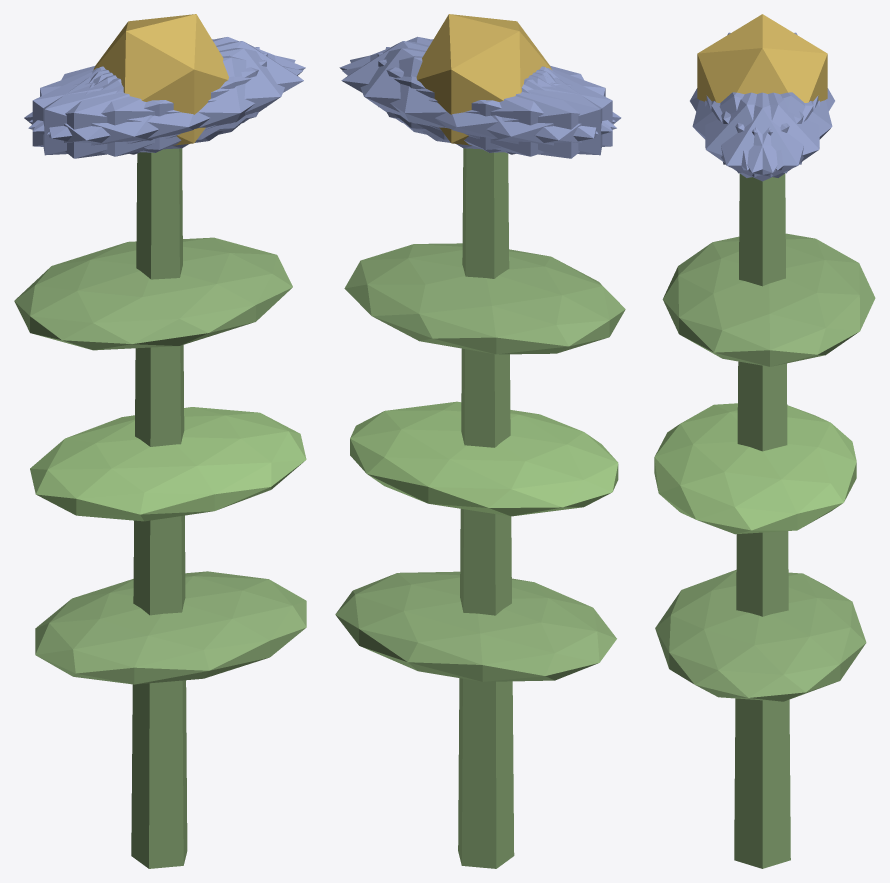
The model's file is cascabela-thevetia.glb.
The picture shows the model from 3 angles, left to right: view 1: azimuth 30°, elevation 25°; view 2: azimuth 150°, elevation 25°; view 3: azimuth 270°, elevation 25°; orthographic projection.
Parts seen in each view (by area): view 1: stem, leaf1, leaf2, leaf0, center, petal1, petal6, petal2, petal5, petal7, petal0, petal4 (+2 smaller); view 2: stem, leaf2, leaf0, leaf1, center, petal8, petal3, petal7, petal4, petal2, petal0, petal5 (+2 smaller); view 3: stem, leaf2, leaf0, leaf1, center, petal0, petal5, petal4, petal1, petal8.
Part boxes in pixels (x1,y1,x2,y2): stem: [131, 148, 187, 868]; leaf1: [30, 407, 306, 521]; leaf2: [14, 237, 292, 350]; leaf0: [35, 571, 306, 684]; center: [93, 14, 228, 145]; petal1: [28, 55, 302, 156]; petal6: [24, 68, 222, 158]; petal2: [43, 47, 259, 155]; petal5: [47, 48, 295, 149]; petal7: [32, 52, 267, 152]; petal0: [93, 41, 303, 139]; petal4: [29, 37, 305, 131]; stem: [458, 148, 514, 868]; leaf2: [344, 243, 625, 354]; leaf0: [335, 571, 616, 681]; leaf1: [350, 401, 618, 516]; center: [416, 14, 551, 145]; petal8: [342, 56, 616, 156]; petal3: [422, 68, 621, 158]; petal7: [385, 47, 602, 155]; petal4: [350, 48, 598, 149]; petal2: [377, 52, 612, 152]; petal0: [341, 41, 552, 140]; petal5: [339, 36, 615, 131]; stem: [734, 173, 790, 868]; leaf2: [662, 233, 875, 366]; leaf0: [655, 569, 866, 701]; leaf1: [654, 403, 856, 534]; center: [697, 14, 827, 102]; petal0: [706, 92, 818, 181]; petal5: [705, 92, 813, 177]; petal4: [711, 92, 819, 177]; petal1: [692, 92, 803, 170]; petal8: [721, 92, 832, 170].
Size of the model in its own units: 0.1452 by 0.4279 by 0.1039.
